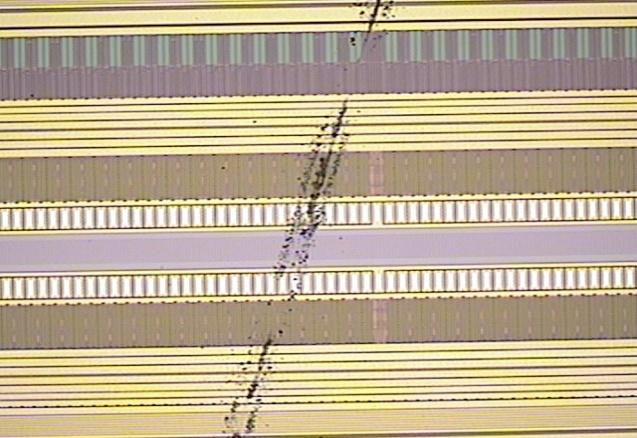SCRATCH: (210, 1, 407, 438)
